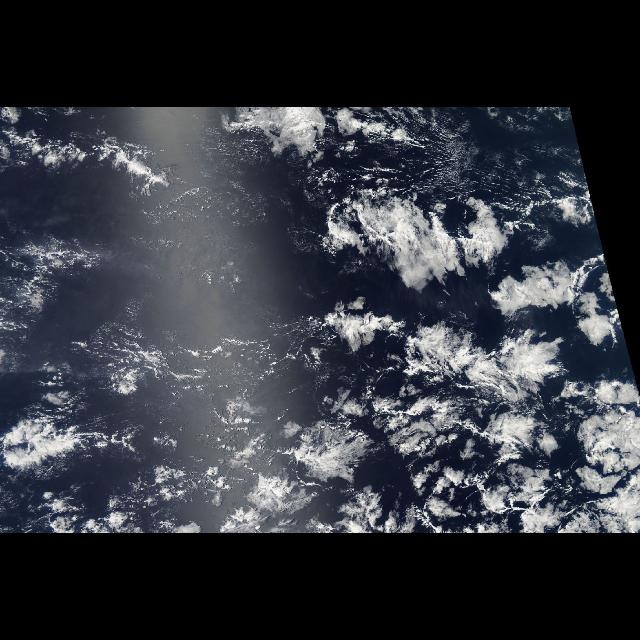Fish: (2, 109, 640, 534), (0, 397, 150, 509)
Flower: (299, 167, 636, 529)
Gravel: (1, 198, 316, 424)
Sugar: (70, 224, 298, 348), (426, 143, 572, 185)
